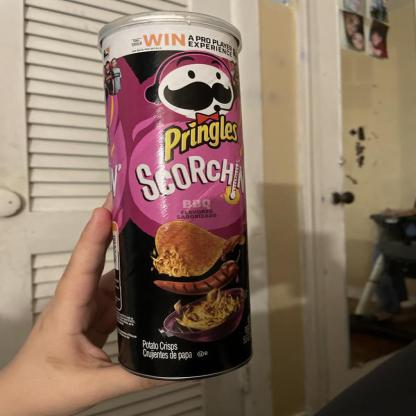potatochip: (84, 6, 263, 385)
